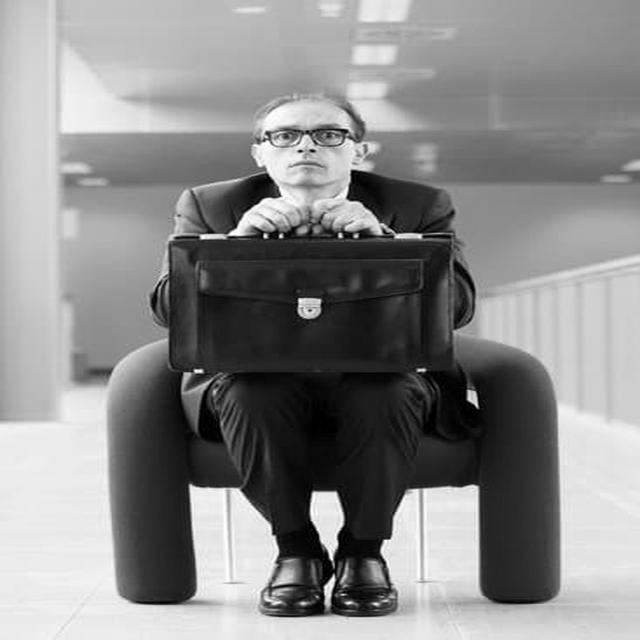Fear: (266, 102, 352, 186)
